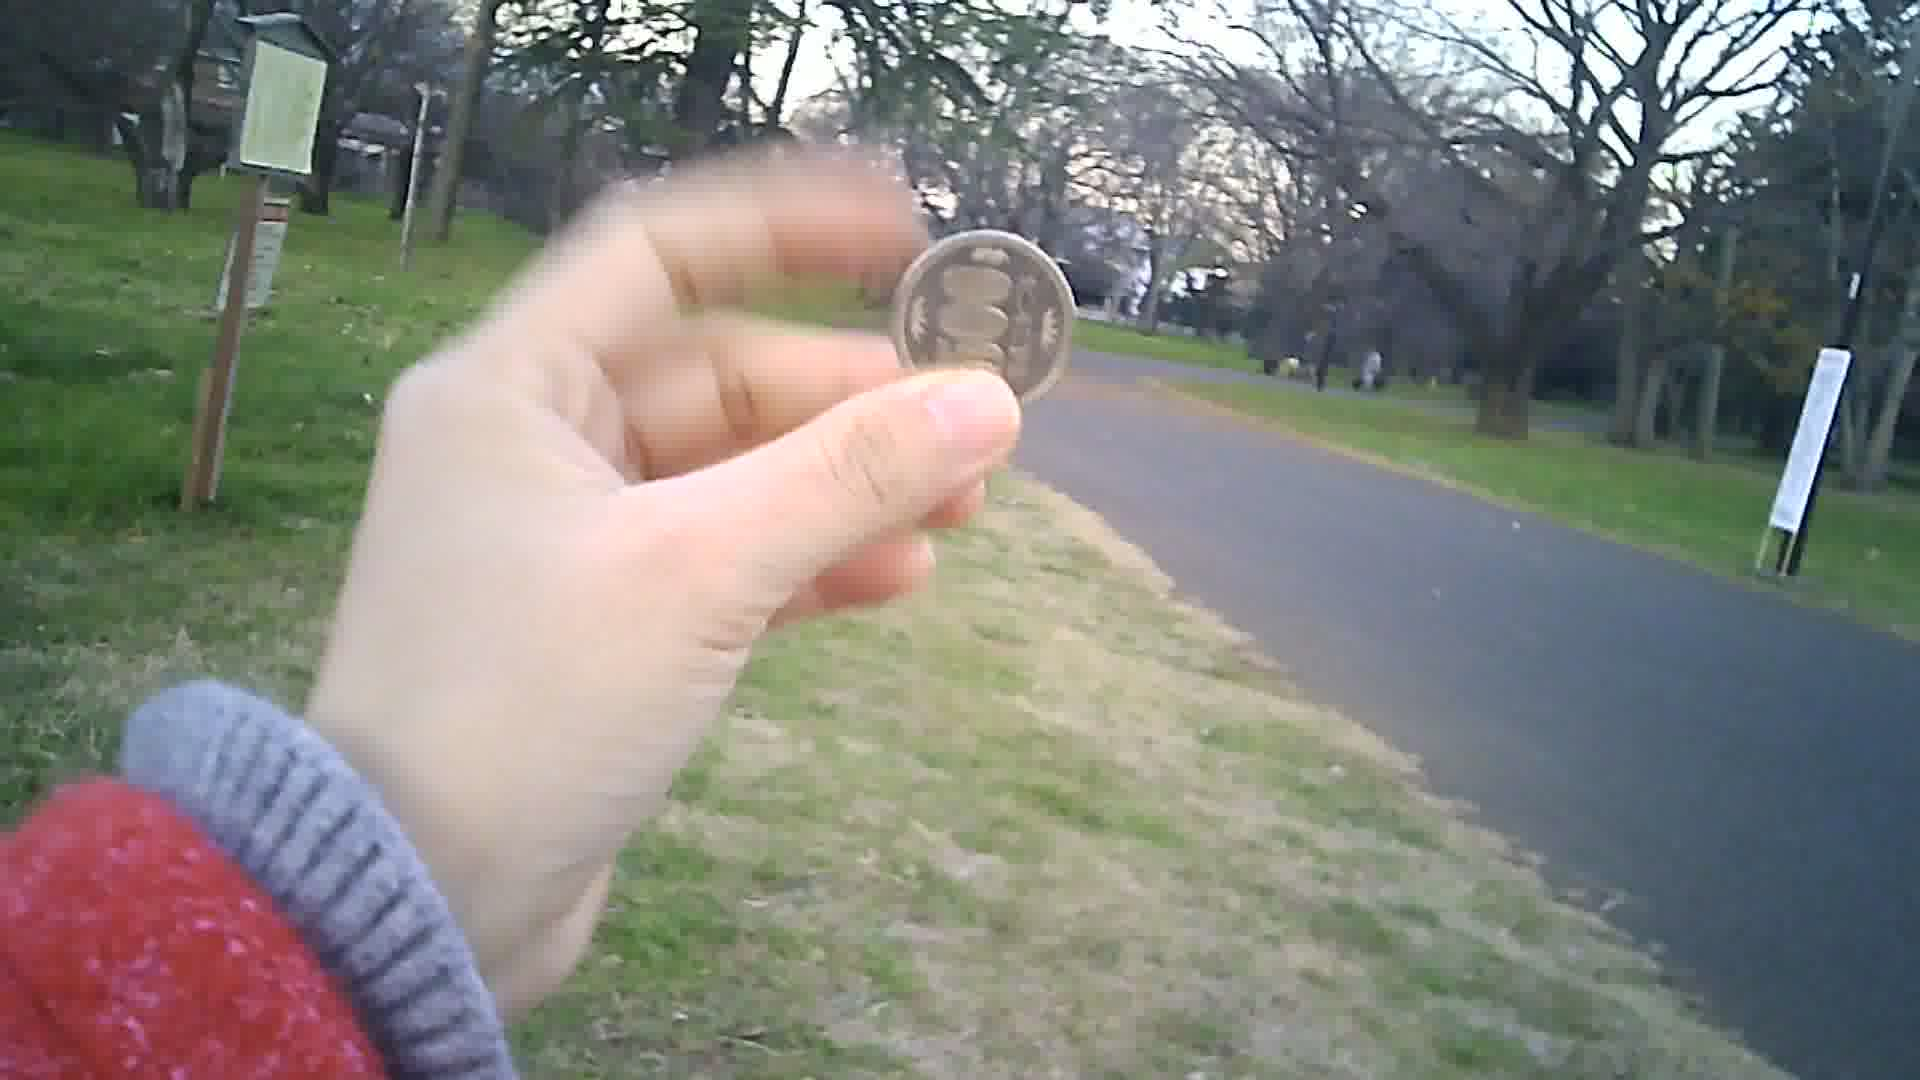500 Yen: (887, 223, 1091, 409)
